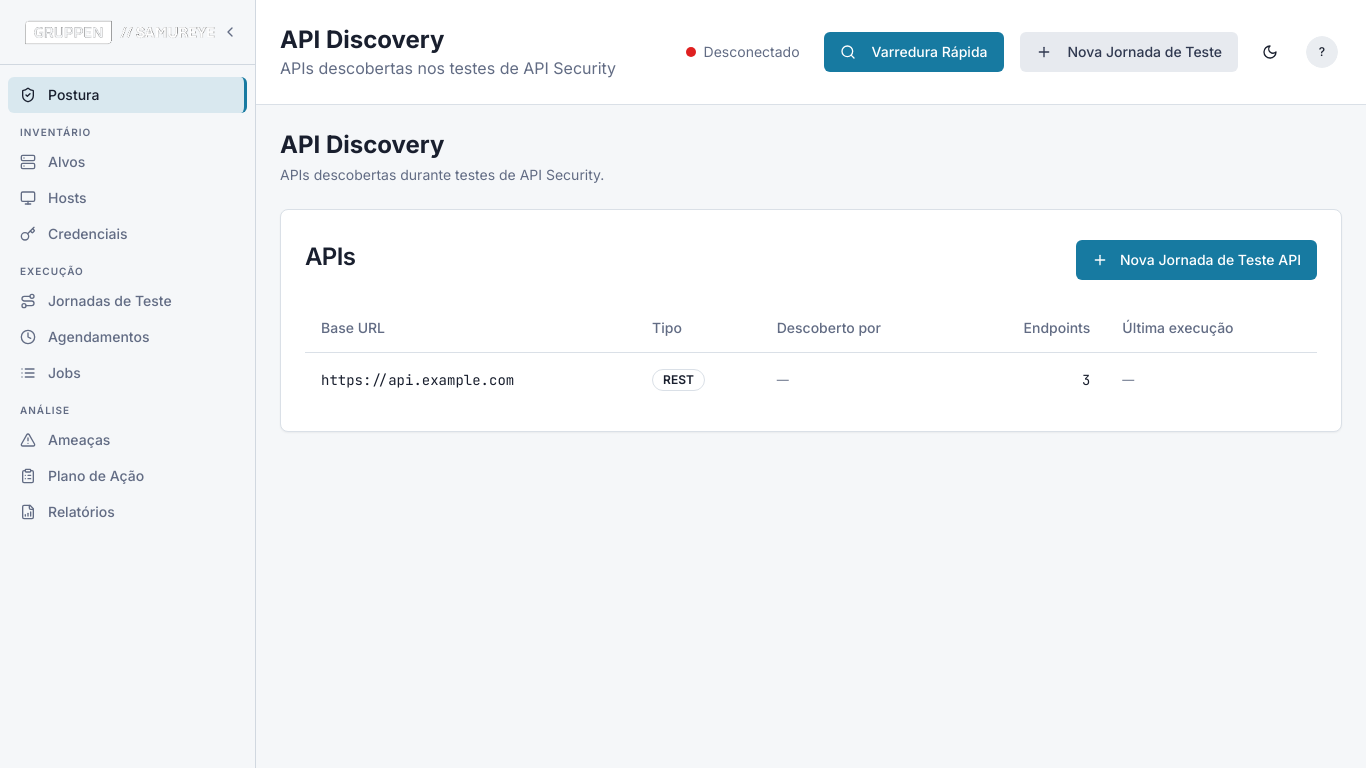
Test: UI-02 — API Endpoint Drilldown Sheet › endpoints grouped by path: one Collapsible rendered per distinct path
Step 1. Click the row with test id "api-row-a1" → coordinates (418, 380), box left=305, top=352, right=1317, bottom=406
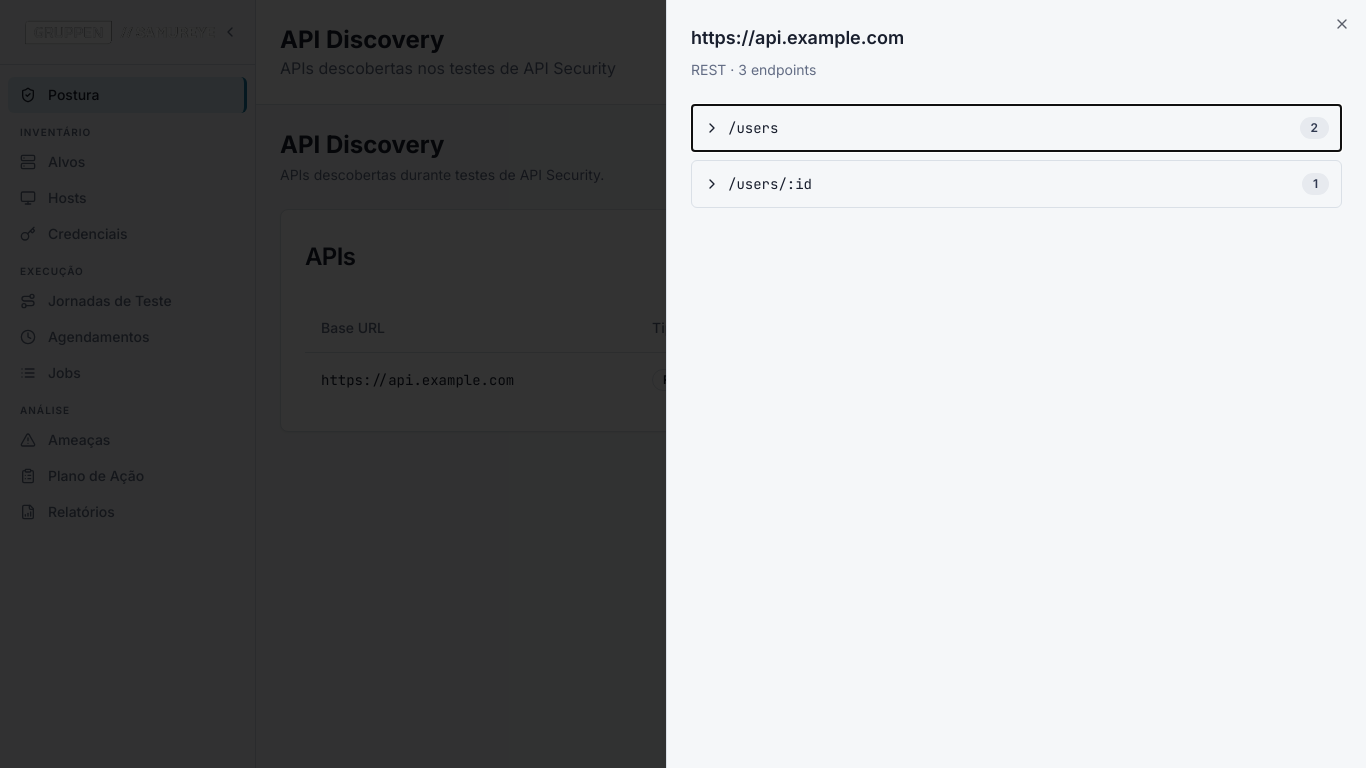
Expected: the element with test id "group-/users" is shown, left=691, top=104, right=1342, bottom=152
Expected: the element with test id "group-/users/:id" is shown, left=691, top=160, right=1342, bottom=208
